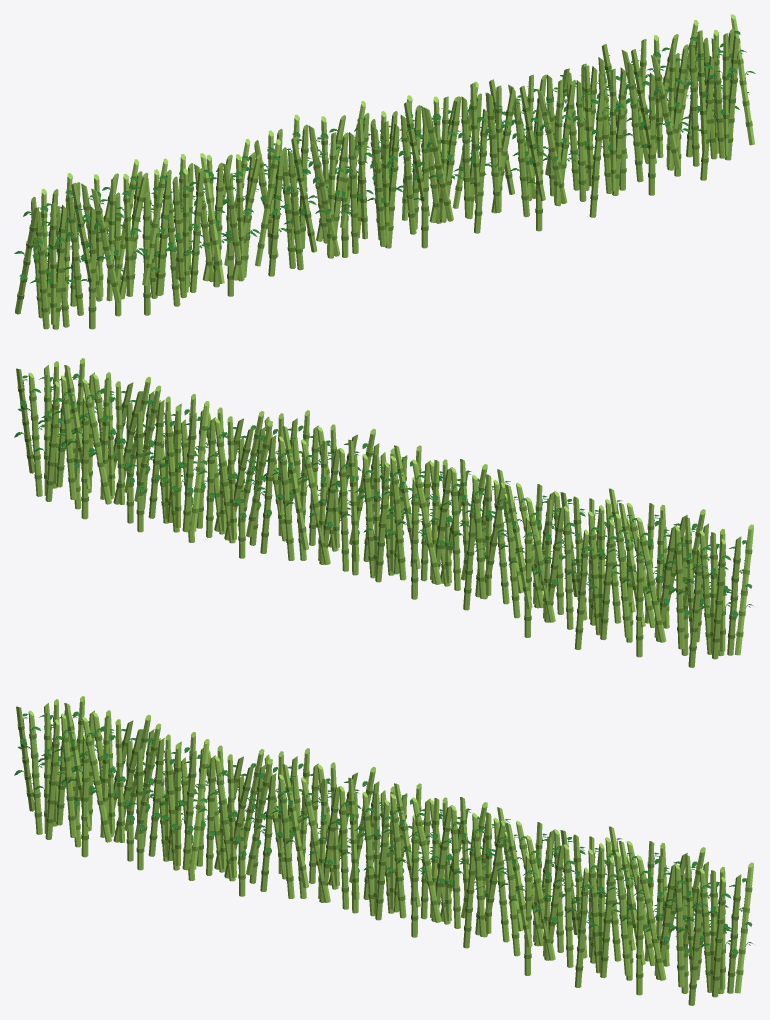
The model's file is BAMBOO_BORDER.fbx.
3 renders of one model, top to bottom at view 1: azimuth 30°, elevation 25°; view 2: azimuth 150°, elevation 25°; view 3: azimuth 330°, elevation 25°, orthographic.
Visible parts, largest first — view 1: Cylinder.060; view 2: Cylinder.060; view 3: Cylinder.060.
Part boxes in pixels (x1,y1,x2,y2): Cylinder.060: (14, 14, 755, 329); Cylinder.060: (14, 358, 753, 667); Cylinder.060: (14, 696, 753, 1005).
Size of the model in its own units: 37473 by 7932 by 2917.
